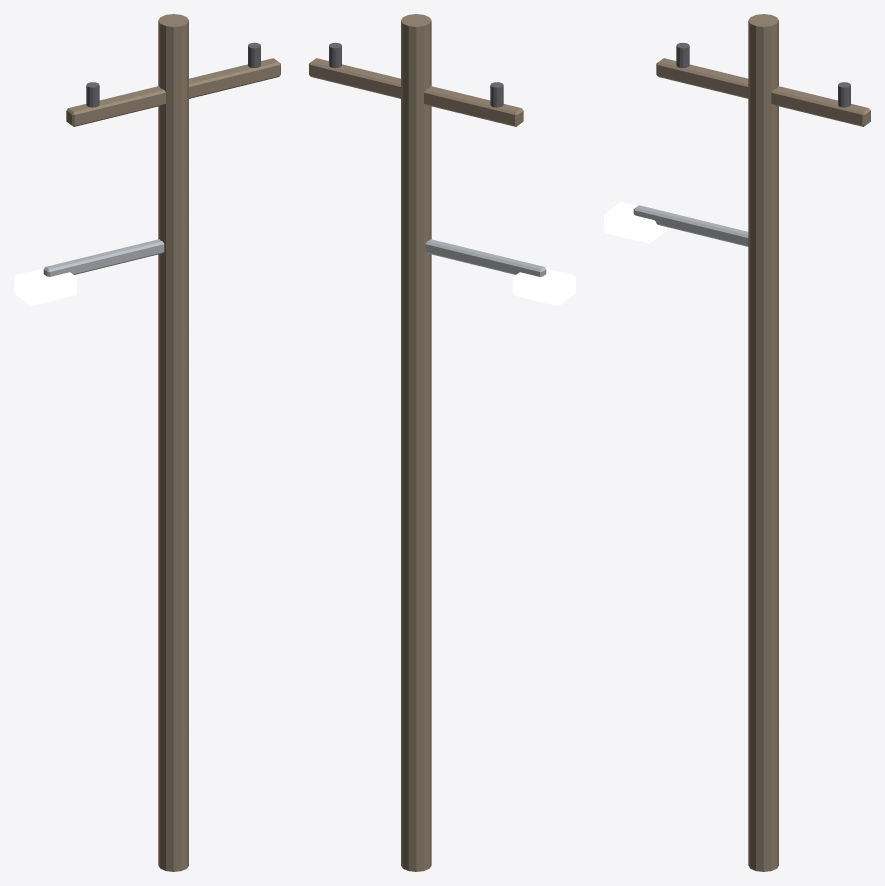
File: kit_pole_lod0.glb
The picture shows the model from 3 angles, left to right: view 1: azimuth 30°, elevation 25°; view 2: azimuth 150°, elevation 25°; view 3: azimuth 330°, elevation 25°; orthographic projection.
Parts seen in each view (by area): view 1: pole, crossarm, lamp_arm, lamp_head; view 2: pole, crossarm, lamp_arm, lamp_head; view 3: pole, crossarm, lamp_arm, lamp_head.
Part boxes in pixels (x1,y1,x2,y2): pole: [158, 14, 188, 871]; crossarm: [66, 58, 280, 126]; lamp_arm: [43, 239, 164, 276]; lamp_head: [14, 268, 76, 306]; pole: [401, 14, 431, 871]; crossarm: [309, 58, 523, 126]; lamp_arm: [425, 239, 546, 276]; lamp_head: [513, 268, 575, 306]; pole: [748, 14, 778, 871]; crossarm: [656, 58, 870, 126]; lamp_arm: [633, 205, 748, 246]; lamp_head: [604, 202, 666, 243].
Size of the model in its own units: 2.7 by 8.5 by 0.32.
